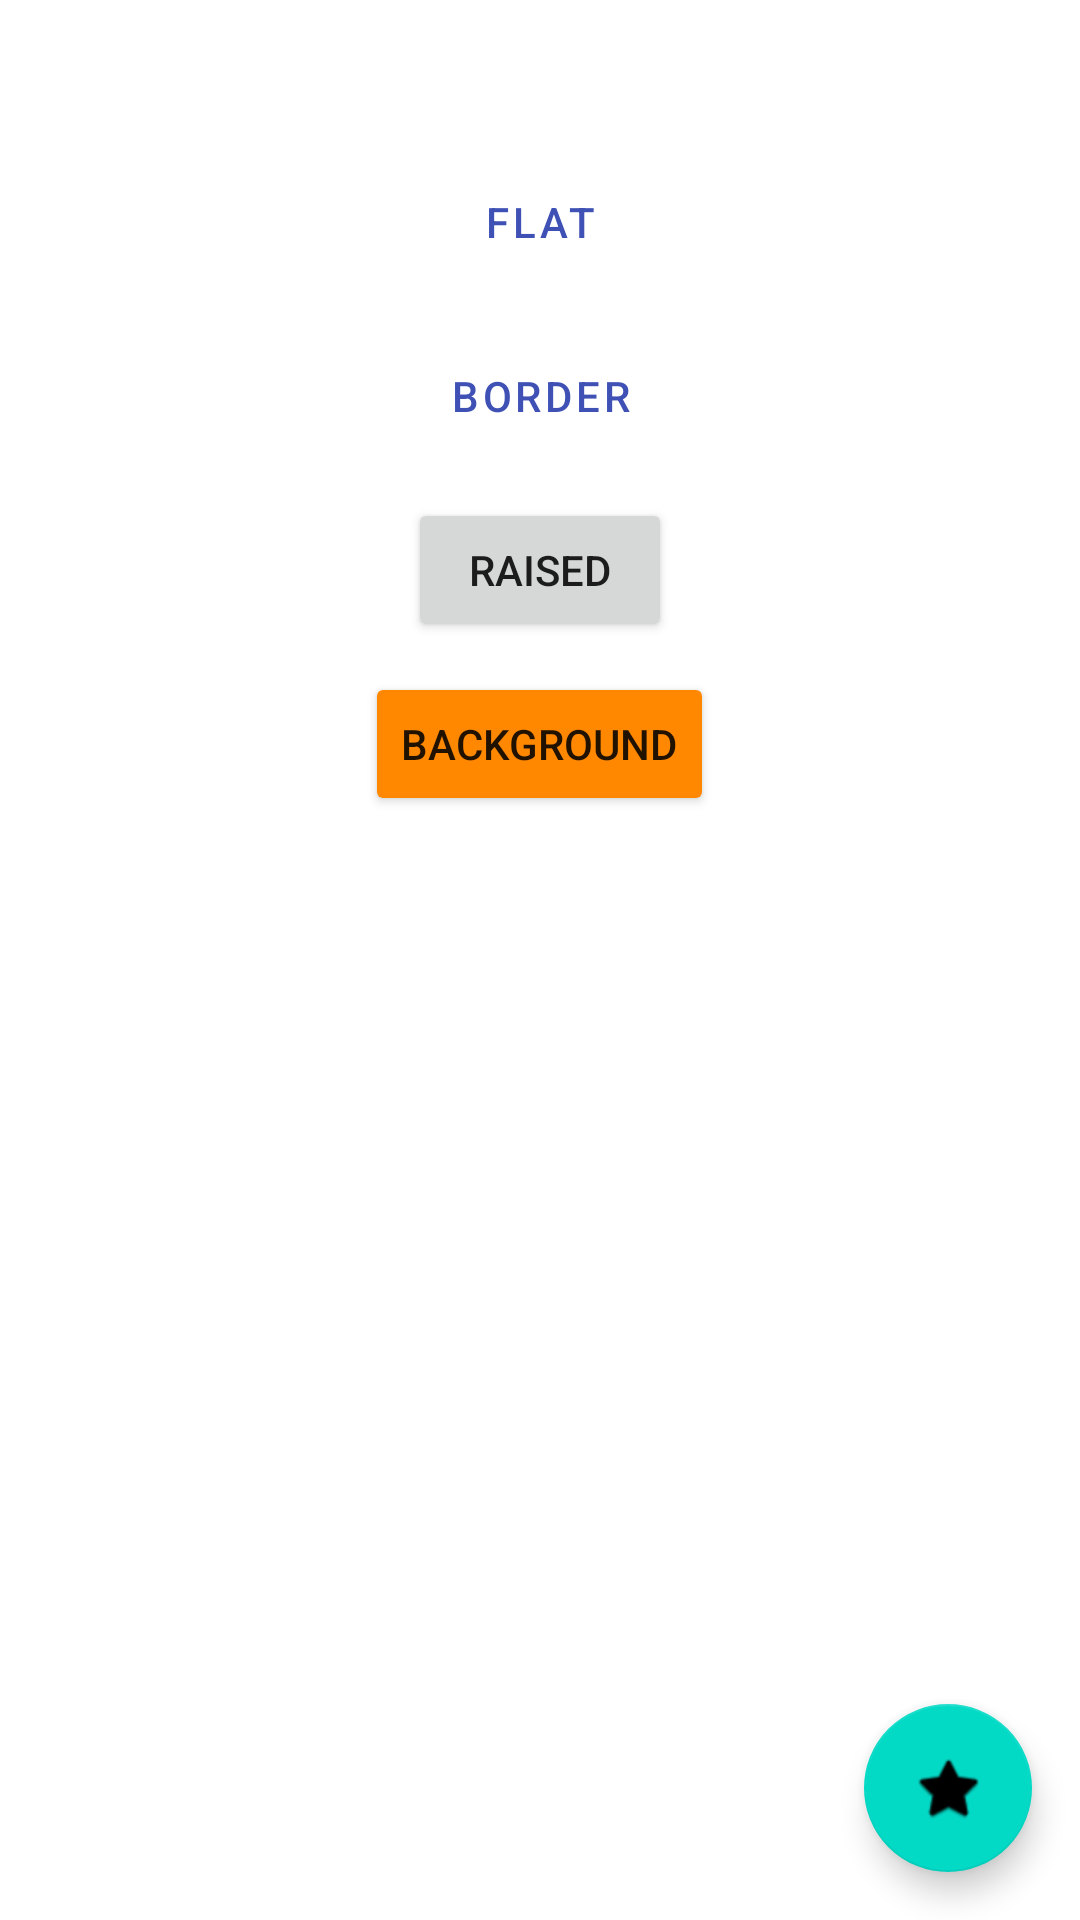

Named icons in this screenshot (1080 x 1920) and their bounding boxes, Rect(x1, y1, x2, y2):
star: Rect(864, 1704, 1032, 1872)
